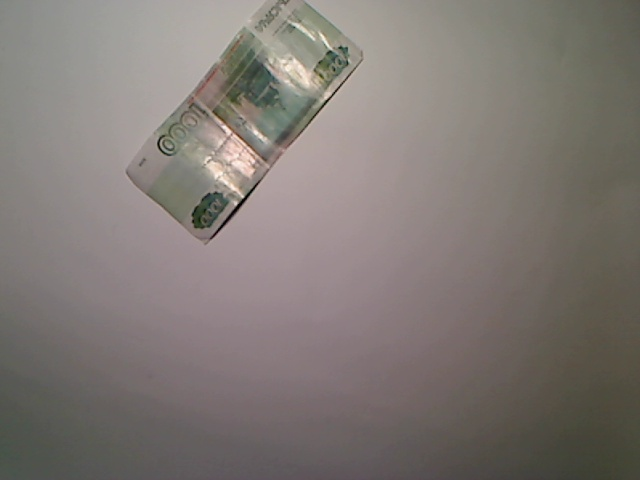banknotes: (119, 1, 368, 245)
